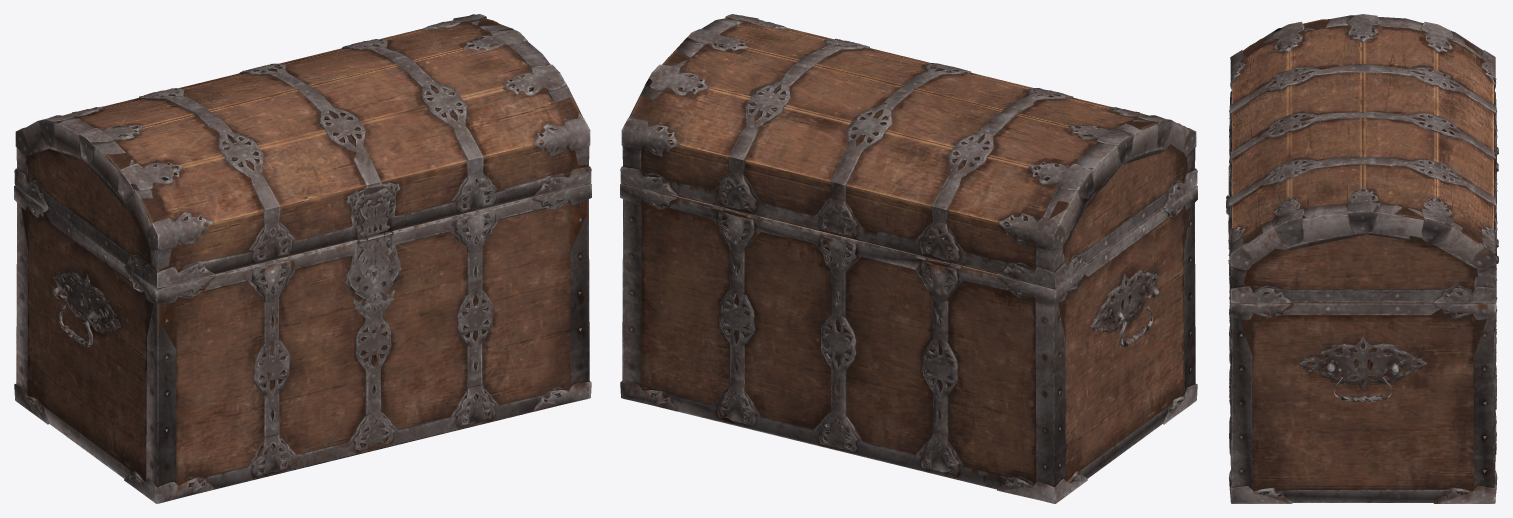
The model's file is treasure_chest.glb.
The picture shows the model from 3 angles, left to right: view 1: azimuth 30°, elevation 25°; view 2: azimuth 150°, elevation 25°; view 3: azimuth 270°, elevation 25°; orthographic projection. The views are drawn at different scales.
Parts seen in each view (by area): view 1: model; view 2: model; view 3: model.
Part boxes in pixels (box(x1,y1,x2,y2)): model: box(14, 14, 591, 503); model: box(620, 14, 1197, 503); model: box(1226, 14, 1498, 503).
Size of the model in its own units: 0.9605 by 0.6183 by 0.5225.
1 material, 1 textured.
